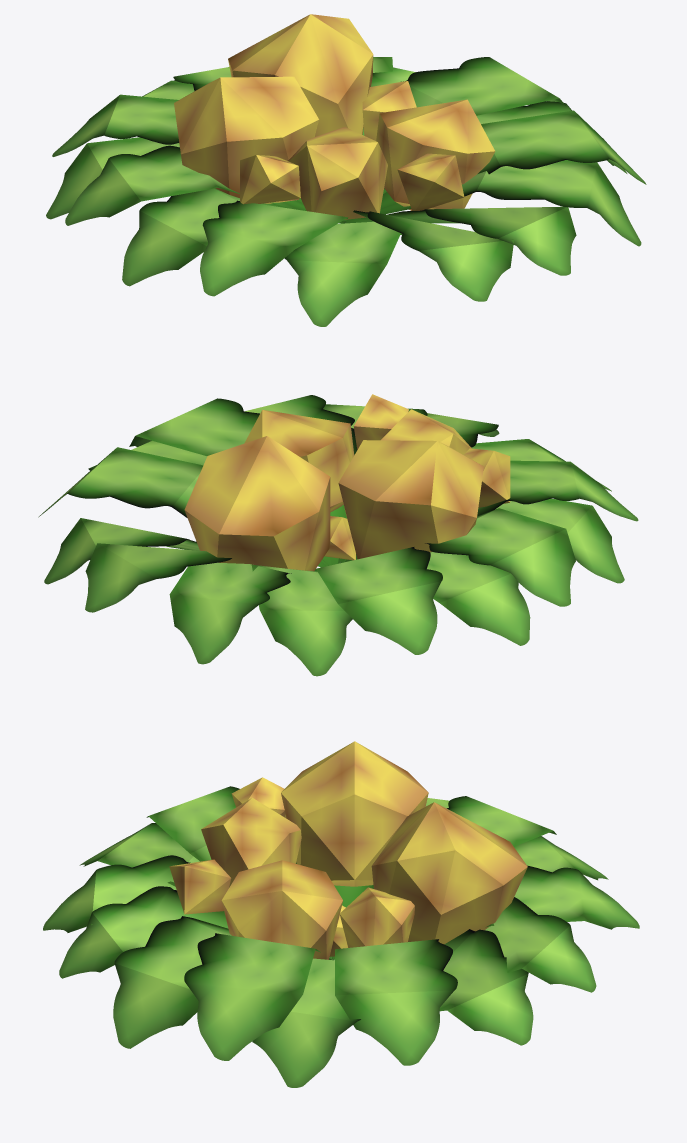
Rendered from Poly_Weed_Plant_07.obj.
3 renders of one model, top to bottom at view 1: azimuth 30°, elevation 25°; view 2: azimuth 150°, elevation 25°; view 3: azimuth 270°, elevation 25°, orthographic.
Visible parts, largest first — view 1: Cube, Plane.001, Plane.002; view 2: Cube, Plane.002, Plane.001; view 3: Cube, Plane.001, Plane.002.
Part boxes in pixels (box(x1,y1,x2,y2)): Cube: box(174, 14, 495, 219); Plane.001: box(46, 57, 646, 326); Plane.002: box(52, 67, 641, 301); Cube: box(184, 394, 510, 571); Plane.002: box(44, 395, 638, 664); Plane.001: box(38, 398, 624, 676); Cube: box(169, 741, 527, 959); Plane.001: box(59, 798, 608, 1065); Plane.002: box(43, 786, 639, 1087).
Size of the model in its own units: 0.8592 by 0.2837 by 0.8624.
1 material, 1 textured.
